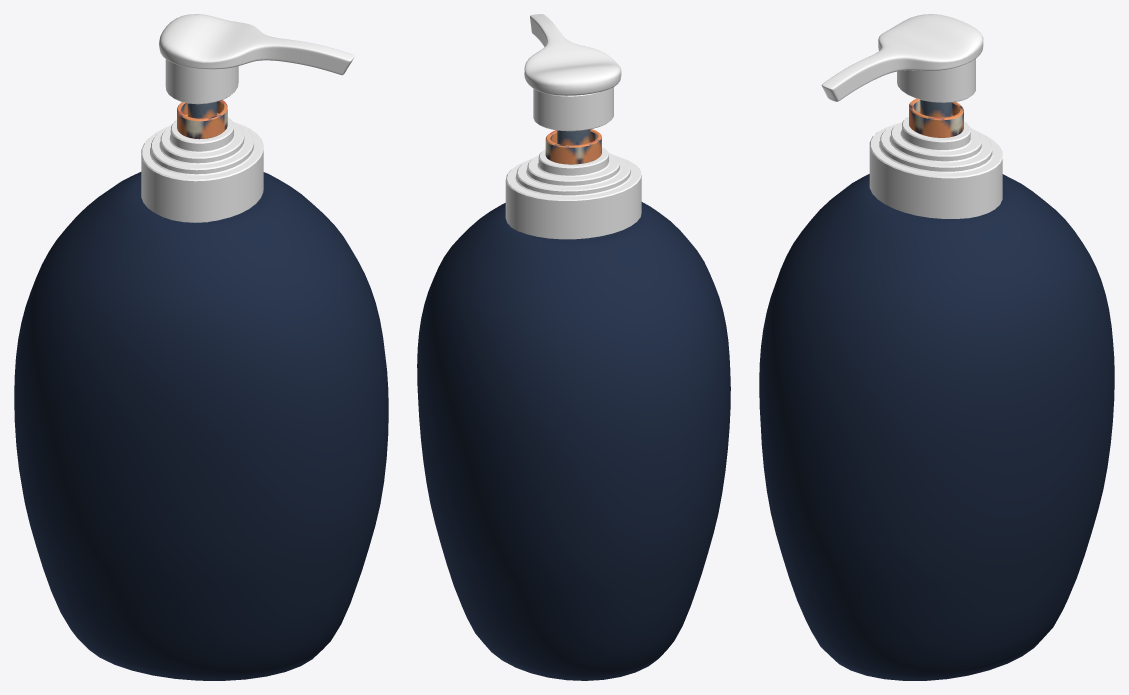
File: soap_dispenser2.glb
3 views of the same model, side by side, from view 1: azimuth 30°, elevation 25°; view 2: azimuth 150°, elevation 25°; view 3: azimuth 270°, elevation 25° (orthographic). The views are drawn at different scales.
Visible parts, largest first — view 1: soap_dispenser; view 2: soap_dispenser; view 3: soap_dispenser.
Boxes of the visible parts, left/top/right/bottom form: soap_dispenser: left=14, top=14, right=388, bottom=680; soap_dispenser: left=417, top=14, right=730, bottom=680; soap_dispenser: left=759, top=14, right=1114, bottom=680.
Size of the model in its own units: 0.0971 by 0.1835 by 0.0971.
Materials: 3 (1 with a texture image).
